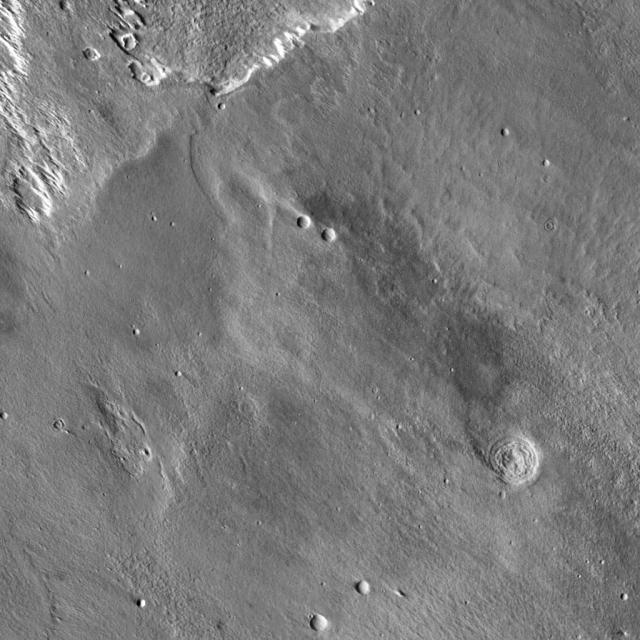crater: (492, 438, 541, 488), (310, 614, 326, 631), (84, 47, 100, 63), (296, 216, 310, 230), (322, 228, 334, 241), (357, 581, 369, 593), (52, 421, 62, 432), (66, 4, 76, 14), (137, 598, 146, 608), (502, 129, 510, 137), (497, 490, 505, 498), (2, 410, 9, 418), (217, 102, 224, 110), (621, 591, 628, 599), (543, 160, 551, 167), (132, 328, 139, 336)
